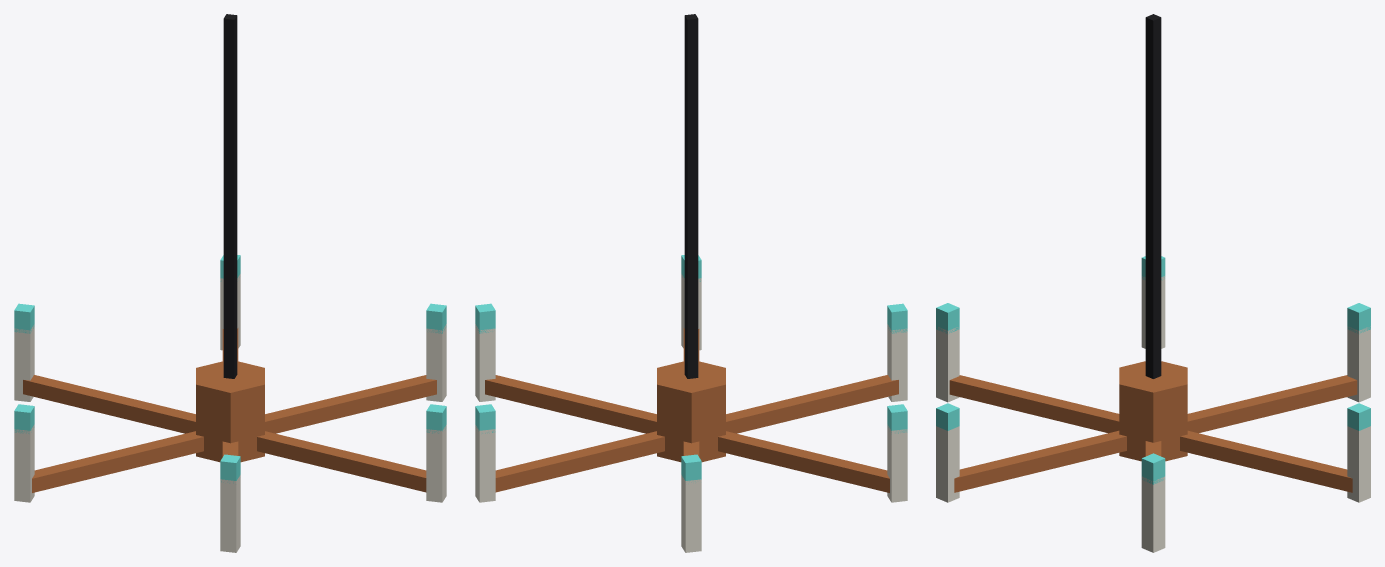
File: GD_Chandelier_01.glb
3 views of the same model, side by side, from view 1: azimuth 30°, elevation 25°; view 2: azimuth 150°, elevation 25°; view 3: azimuth 270°, elevation 25° (orthographic).
Visible parts, largest first — view 1: GD_Chandelier_01; view 2: GD_Chandelier_01; view 3: GD_Chandelier_01.
Boxes of the visible parts, x1,y1,x2,y2 form: GD_Chandelier_01: (14, 14, 446, 552); GD_Chandelier_01: (475, 14, 907, 552); GD_Chandelier_01: (936, 14, 1370, 552).
Bounding box in the file's own units: 0.63 × 0.6 × 0.5496.
Materials: 1 (1 with a texture image).
